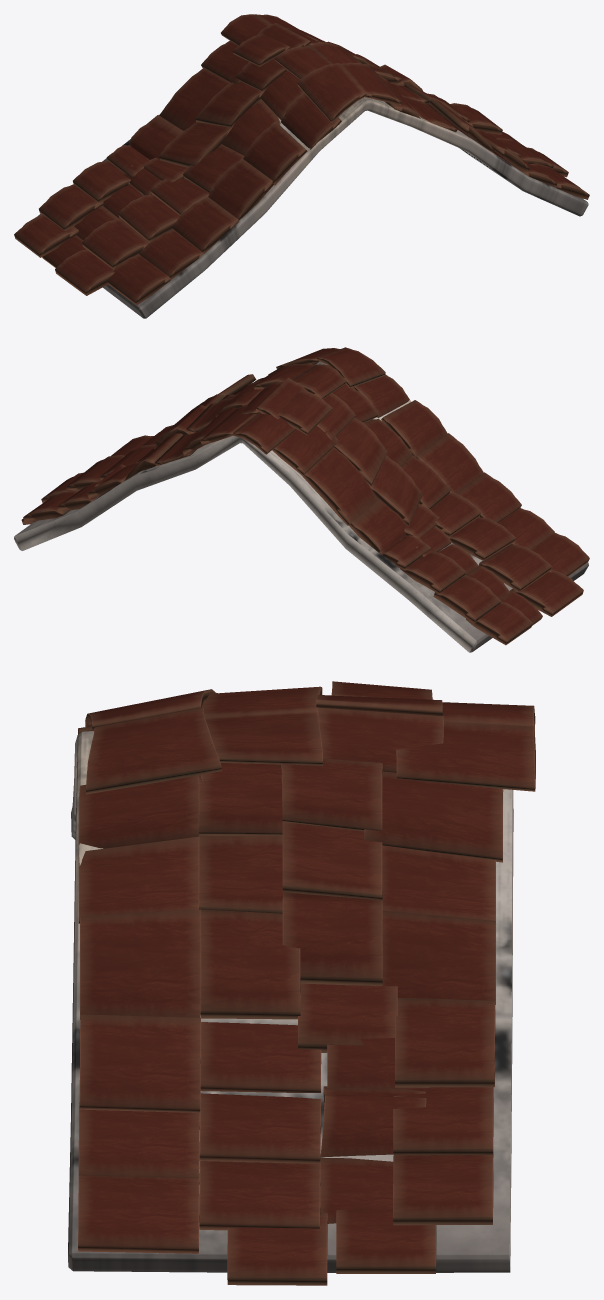
The model's file is Roof_V2_Half.fbx.
The picture shows the model from 3 angles, top to bottom: view 1: azimuth 30°, elevation 25°; view 2: azimuth 150°, elevation 25°; view 3: azimuth 270°, elevation 25°; orthographic projection. The views are drawn at different scales.
Visible parts, largest first — view 1: Roof_Tile1.008; view 2: Roof_Tile1.008; view 3: Roof_Tile1.008.
Boxes of the visible parts, x1,y1,x2,y2 form: Roof_Tile1.008: [14, 14, 589, 318]; Roof_Tile1.008: [14, 347, 589, 652]; Roof_Tile1.008: [68, 681, 535, 1285].
Bounding box in the file's own units: 546 × 195 × 225.
